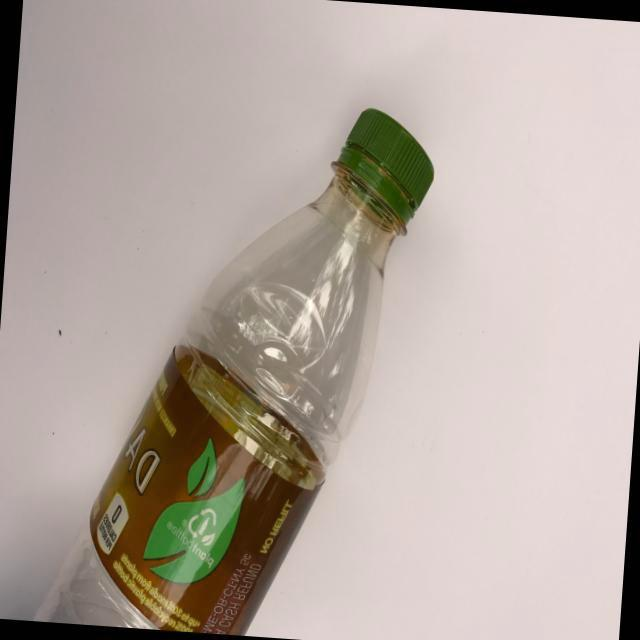plastic: (36, 73, 467, 640)
